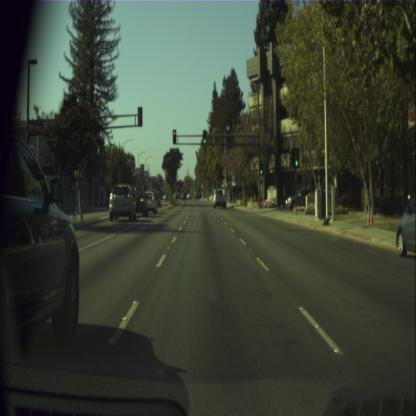Green: (294, 148, 299, 167), (202, 130, 206, 144), (259, 160, 263, 174)
Red: (172, 129, 176, 144)
